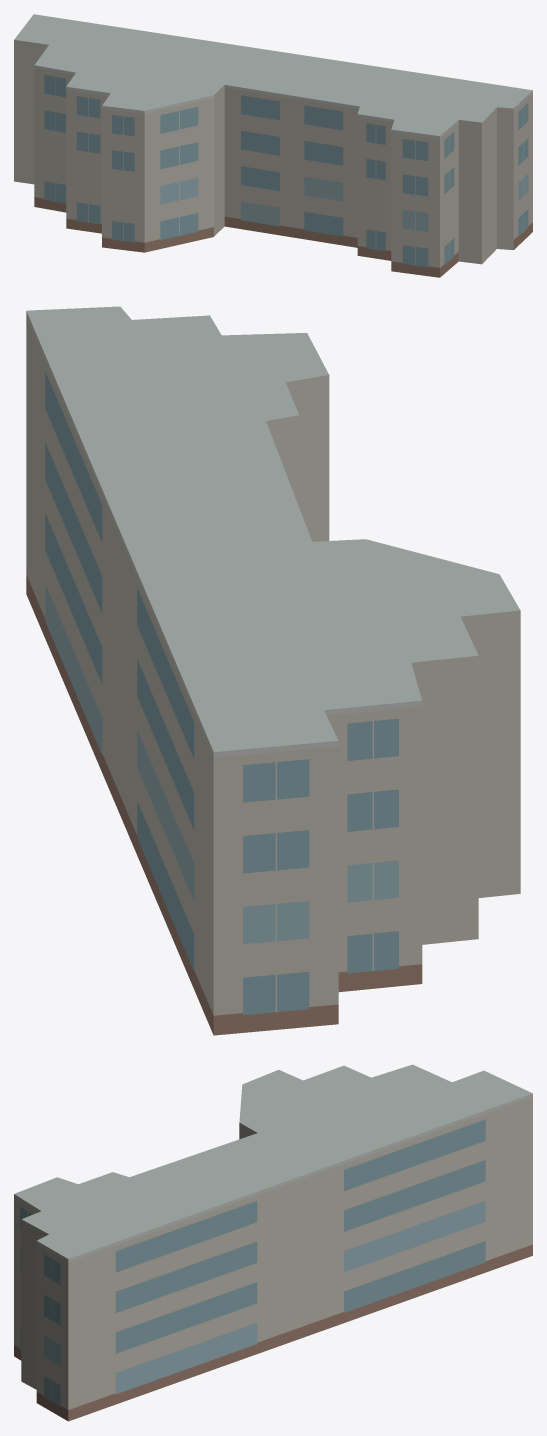
File: survey-upis-32601728.glb
The picture shows the model from 3 angles, top to bottom: view 1: azimuth 30°, elevation 25°; view 2: azimuth 150°, elevation 25°; view 3: azimuth 270°, elevation 25°; orthographic projection. The views are drawn at different scales.
Parts seen in each view (by area): view 1: survey-upis-32601728.tmp; view 2: survey-upis-32601728.tmp; view 3: survey-upis-32601728.tmp.
Boxes of the visible parts, bbox=[...] form: survey-upis-32601728.tmp: bbox=[14, 14, 532, 277]; survey-upis-32601728.tmp: bbox=[26, 306, 520, 1035]; survey-upis-32601728.tmp: bbox=[14, 1064, 532, 1421].
Size of the model in its own units: 31.13 by 12.1 by 35.06.
